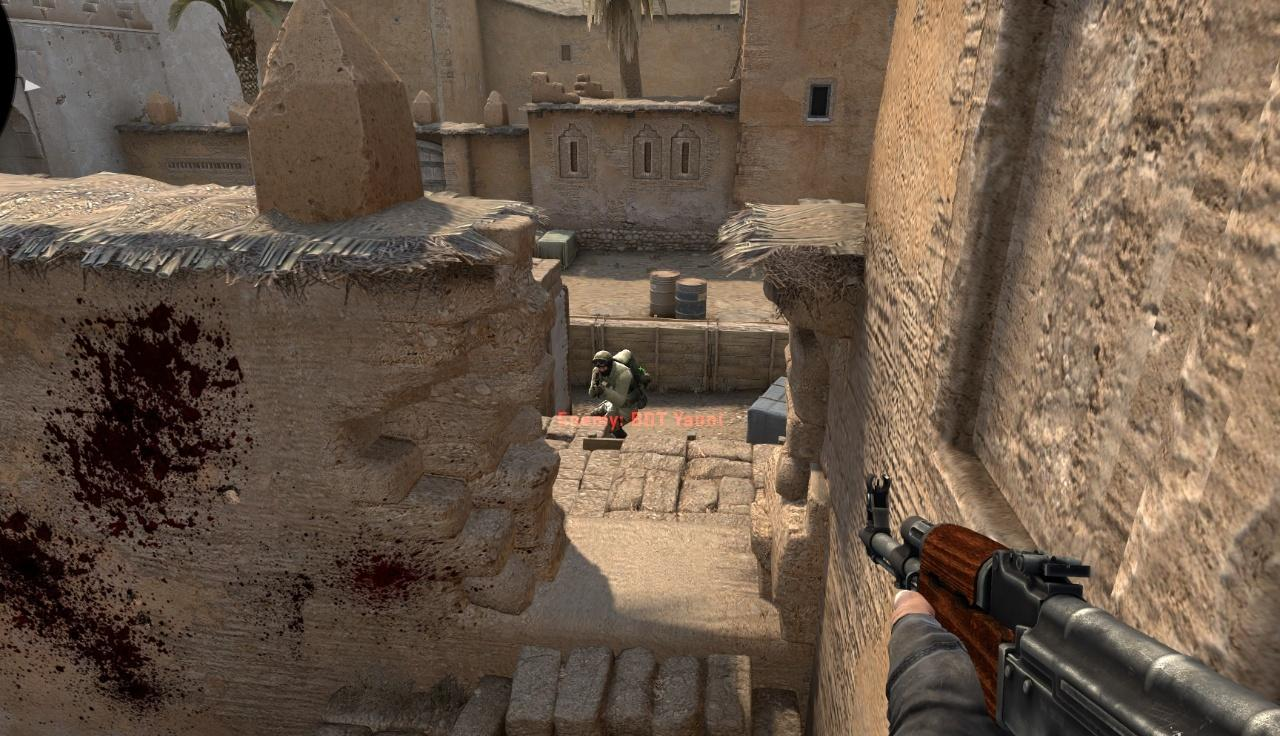ct: (591, 349, 642, 410)
cthead: (593, 351, 613, 375)
rifle: (860, 475, 1280, 736)
